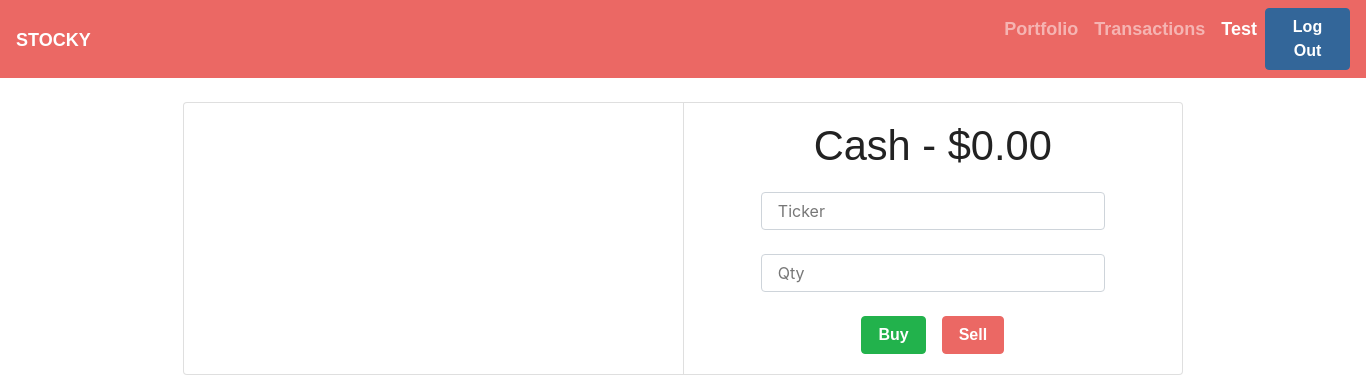
Test: logs out the user and clears the token from localStorage when the log out button is clicked
Click the button labelled "Log Out" at (1308, 39), box [1265,8,1350,70]
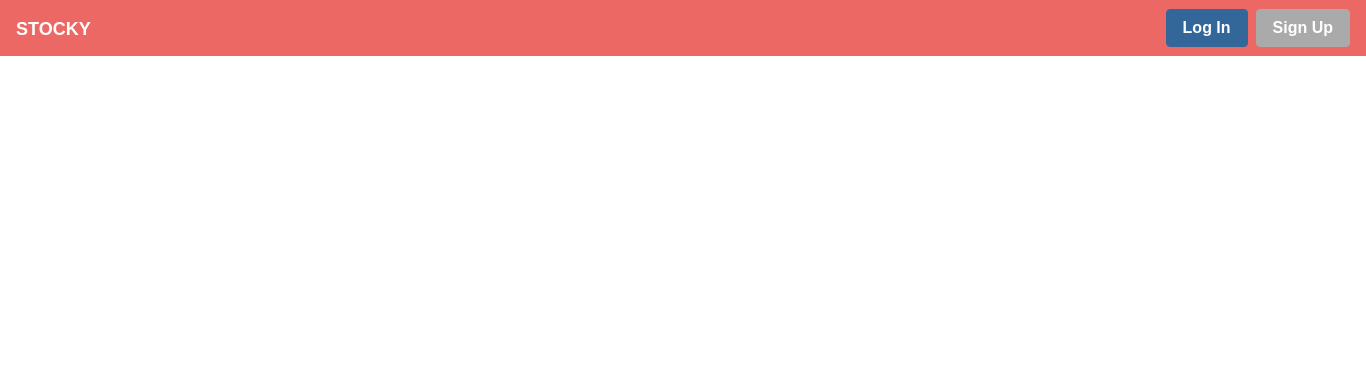
Result: the navigation bar named "Navbar" no longer shows "Test" at [0,0,1365,56]
Result: the button labelled "Log Out" is gone
Result: the button labelled "Sign Up" is shown at [1256,9,1350,47]
